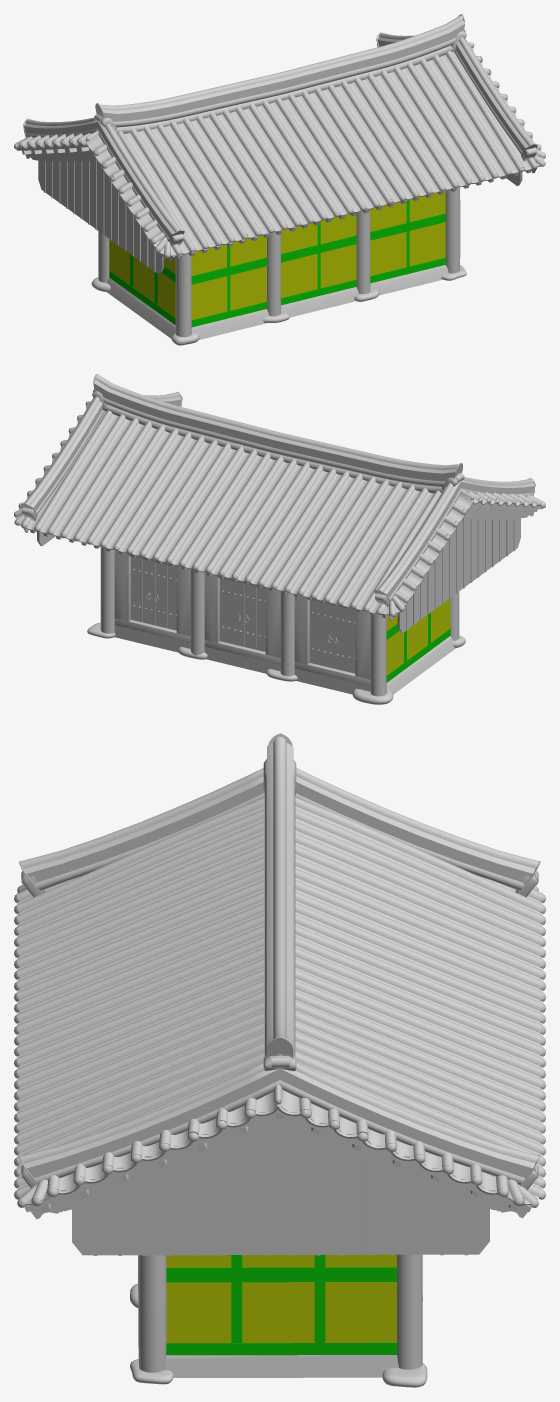
The picture shows the model from 3 angles, top to bottom: view 1: azimuth 30°, elevation 25°; view 2: azimuth 150°, elevation 25°; view 3: azimuth 270°, elevation 25°; orthographic projection. The views are drawn at different scales.
Visible parts, largest first — view 1: 04-2_giwa, 04-2_wall_02, 04-2_Wall_01, 04-2_top_side, 04-2_pillar, 04-2_stone, 04-2_bird_001; view 2: 04-2_giwa, 04-2_Frame, 04-2_top_side, 04-2_Wall_01, 04-2_pillar, 04-2_Door_RR, 04-2_Door_CR, 04-2_Door_LR, 04-2_Door_RL, 04-2_Door_CL, 04-2_Door_LL, 04-2_stone (+1 smaller); view 3: 04-2_giwa, 04-2_top_side, 04-2_Wall_01, 04-2_pillar, 04-2_Top_ceiling, 04-2_stone.
Boxes of the visible parts, bbox=[...] form: 04-2_giwa: bbox=[14, 14, 545, 258]; 04-2_wall_02: bbox=[191, 190, 445, 327]; 04-2_Wall_01: bbox=[106, 239, 448, 339]; 04-2_top_side: bbox=[22, 147, 536, 274]; 04-2_pillar: bbox=[98, 187, 460, 337]; 04-2_stone: bbox=[91, 265, 466, 345]; 04-2_bird_001: bbox=[175, 169, 531, 259]; 04-2_giwa: bbox=[14, 374, 545, 616]; 04-2_Frame: bbox=[114, 551, 370, 686]; 04-2_top_side: bbox=[24, 505, 537, 632]; 04-2_Wall_01: bbox=[114, 599, 455, 694]; 04-2_pillar: bbox=[100, 547, 459, 696]; 04-2_Door_RR: bbox=[131, 556, 155, 625]; 04-2_Door_CR: bbox=[220, 578, 244, 646]; 04-2_Door_LR: bbox=[310, 600, 333, 668]; 04-2_Door_RL: bbox=[155, 562, 176, 630]; 04-2_Door_CL: bbox=[244, 584, 265, 651]; 04-2_Door_LL: bbox=[334, 606, 355, 673]; 04-2_stone: bbox=[87, 622, 465, 704]; 04-2_giwa: bbox=[14, 733, 545, 1207]; 04-2_top_side: bbox=[30, 1113, 527, 1255]; 04-2_Wall_01: bbox=[164, 1254, 398, 1377]; 04-2_pillar: bbox=[138, 1254, 422, 1372]; 04-2_Top_ceiling: bbox=[24, 1106, 533, 1212]; 04-2_stone: bbox=[130, 1283, 427, 1387].
Bounding box in the file's own units: 10.65 × 5.78 × 7.36.
